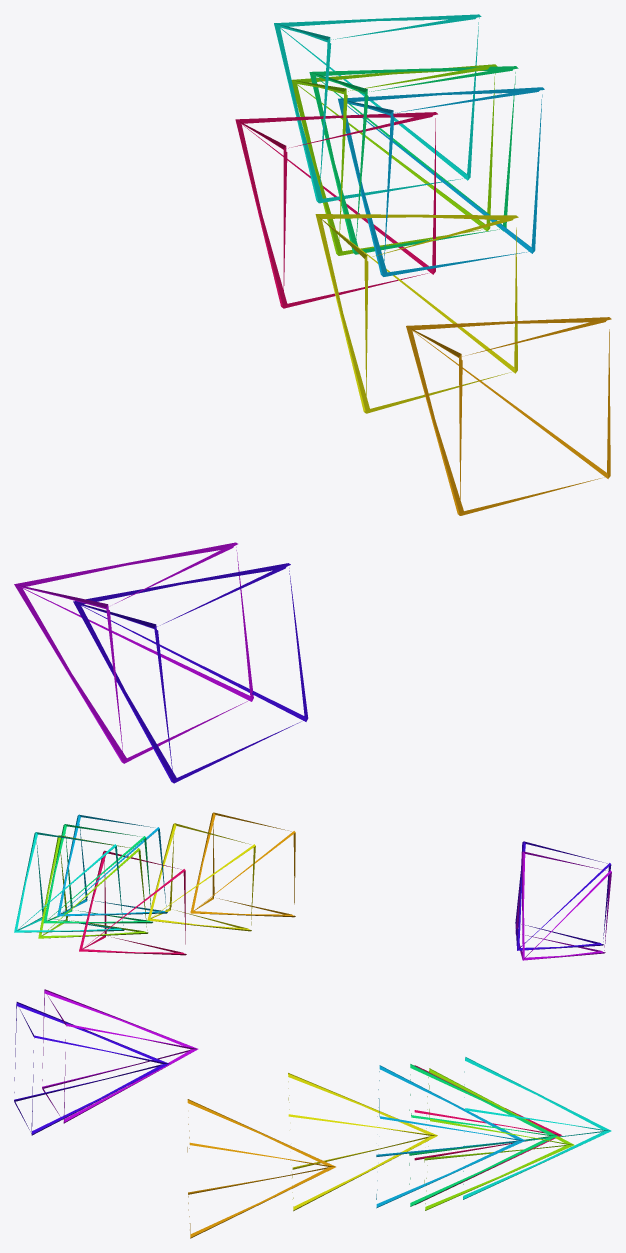
File: QVGGT_9.glb
3 renders of one model, top to bottom at view 1: azimuth 30°, elevation 25°; view 2: azimuth 150°, elevation 25°; view 3: azimuth 270°, elevation 25°, orthographic. The views are drawn at different scales.
Visible parts, largest first — view 1: world; view 2: world; view 3: world.
Part boxes in pixels (left/top/right/bottom): world: left=14, top=14, right=611, bottom=783; world: left=14, top=812, right=611, bottom=960; world: left=14, top=989, right=611, bottom=1238.
Size of the model in its own units: 0.2218 by 0.0981 by 0.2648.
